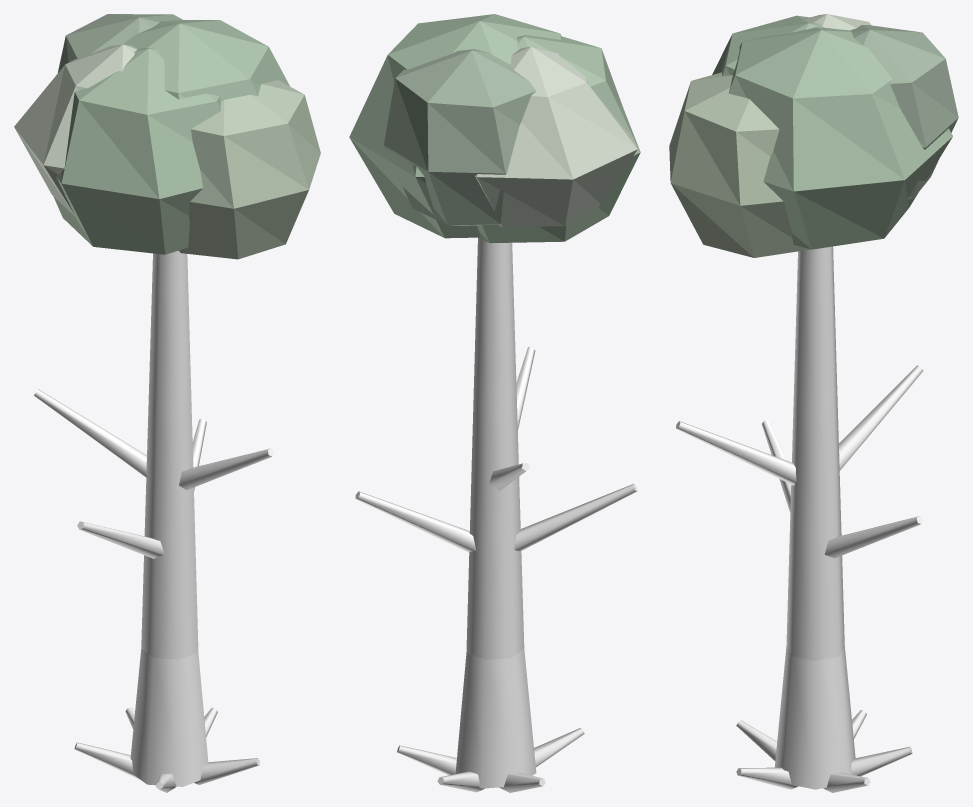
The model's file is tree_canopy.glb.
3 renders of one model, left to right at view 1: azimuth 30°, elevation 25°; view 2: azimuth 150°, elevation 25°; view 3: azimuth 270°, elevation 25°, orthographic.
Visible parts, largest first — view 1: Tree; view 2: Tree; view 3: Tree.
Boxes of the visible parts, bbox=[...] form: Tree: bbox=[14, 14, 320, 792]; Tree: bbox=[349, 14, 640, 792]; Tree: bbox=[669, 14, 958, 792].
Size of the model in its own units: 13.62 by 38.05 by 13.18.
